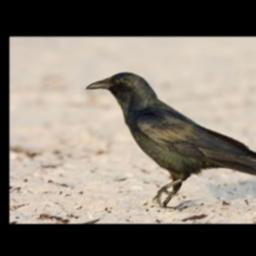Crow: (82, 70, 256, 208)
